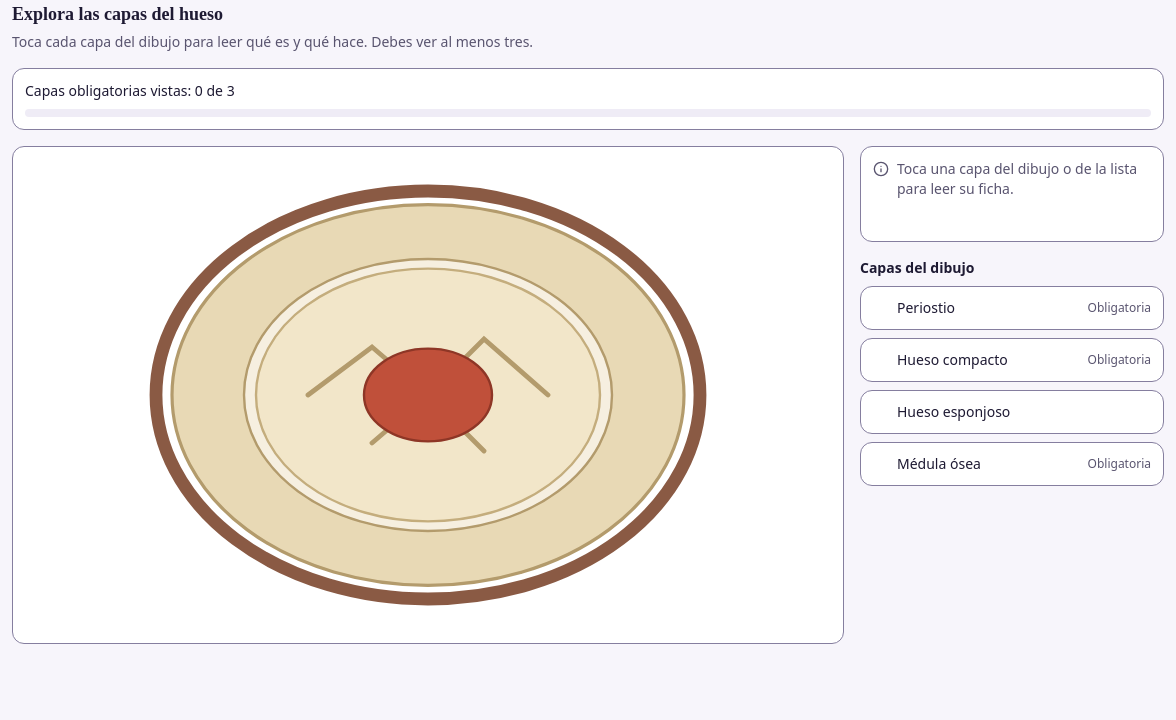
explorar: flujo feliz › al completar, el foco pasa al encabezado del resultado (R6)
Click the button "Periostio Obligatoria" at point(926, 308), box [860,286,1164,330]
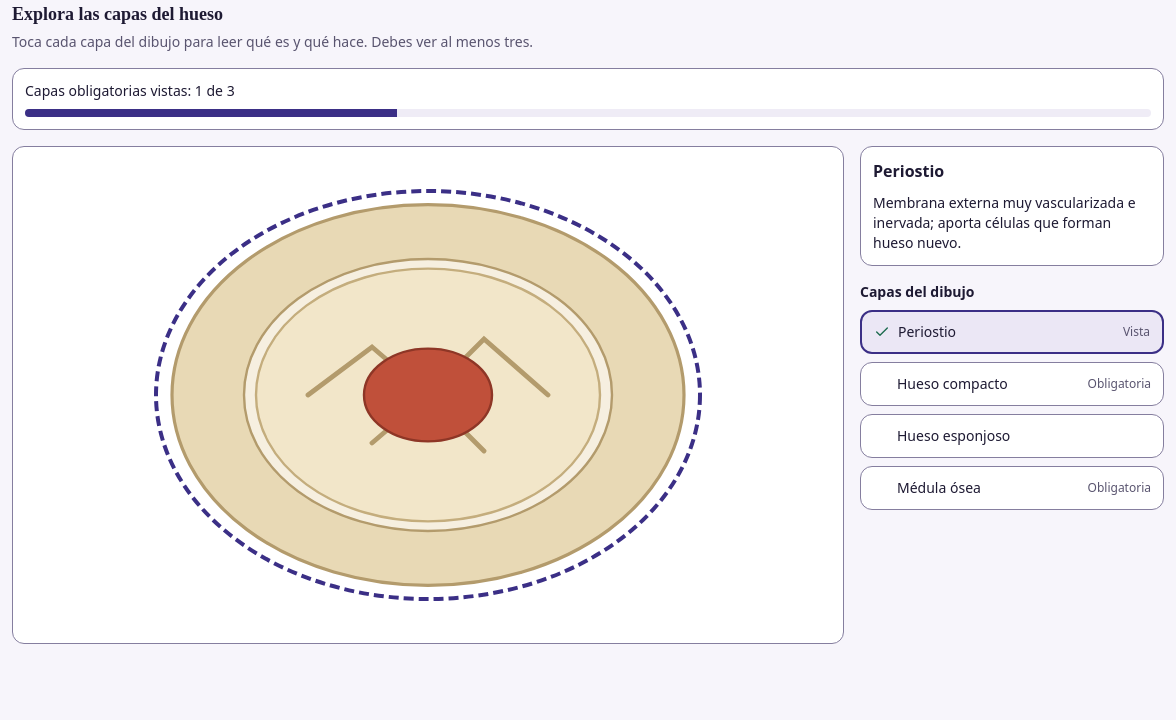
Click the button "Hueso compacto Obligatoria" at point(952, 383), box [860,362,1164,406]
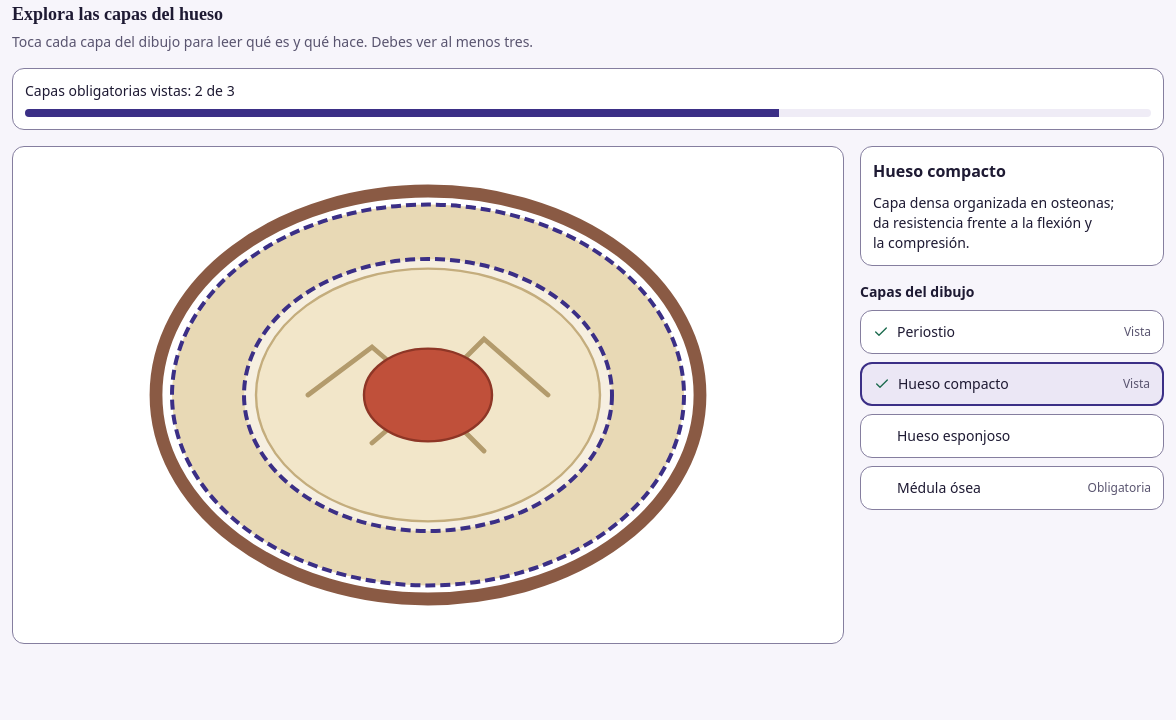
Click the button "Médula ósea Obligatoria" at point(939, 487), box [860,466,1164,510]
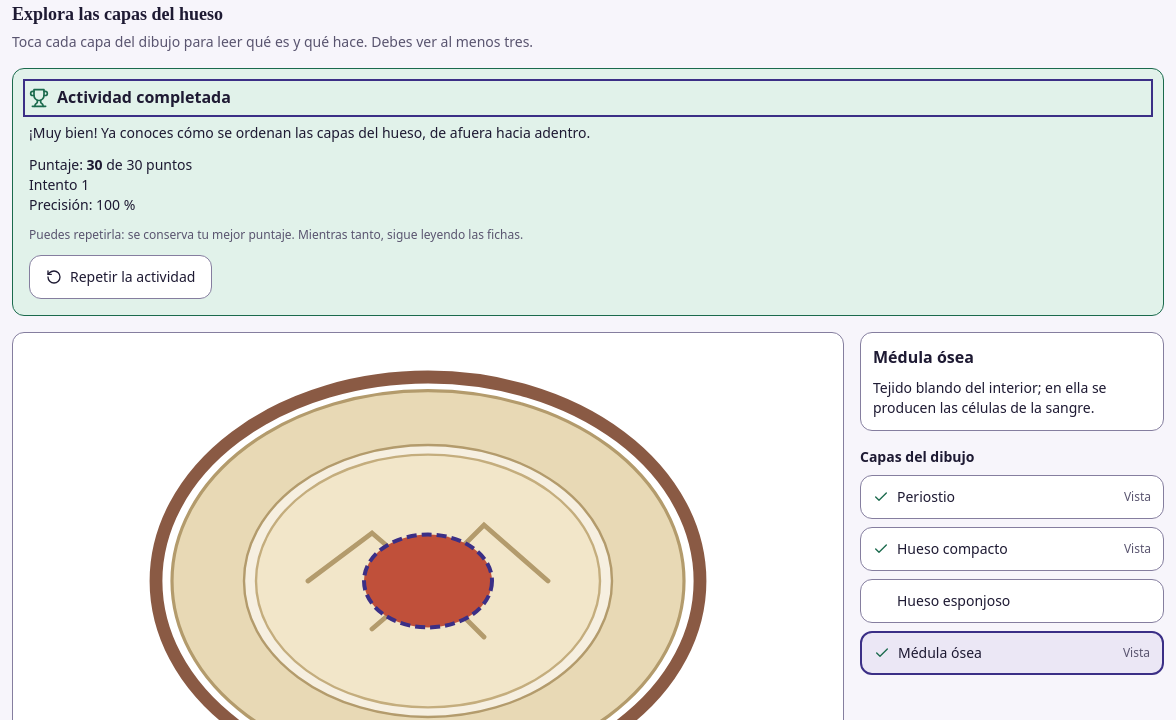
Check: the heading "Actividad completada" is shown, box [29,86,231,108]
